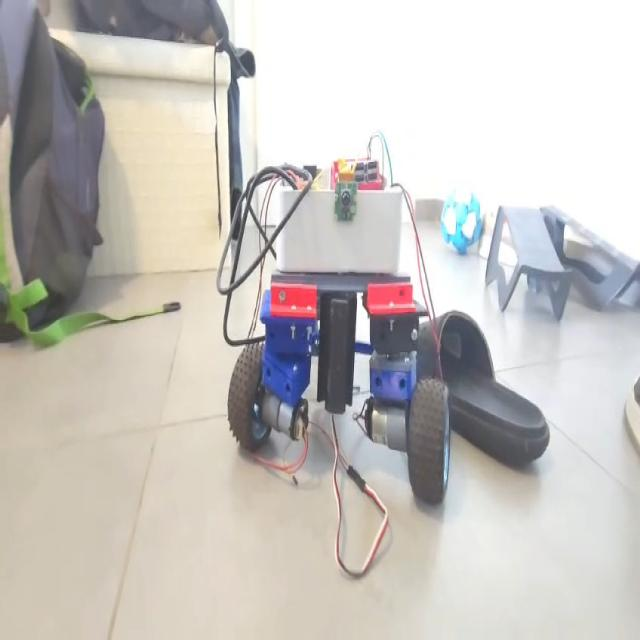Robot: (223, 129, 455, 509)
